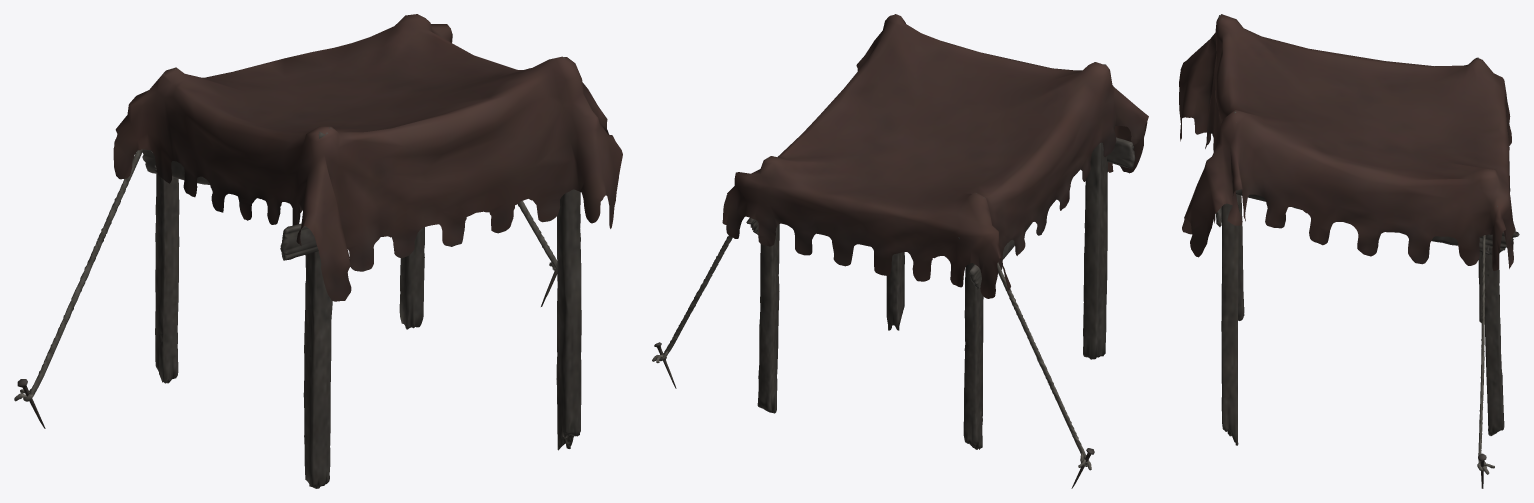
Rendered from CTent_01.fbx.
3 views of the same model, side by side, from view 1: azimuth 30°, elevation 25°; view 2: azimuth 150°, elevation 25°; view 3: azimuth 270°, elevation 25° (orthographic). The views are drawn at different scales.
Parts seen in each view (by area): view 1: CTent_01, CFrame_01; view 2: CTent_01, CFrame_01; view 3: CTent_01, CFrame_01.
Part boxes in pixels (left/top/right/bottom): CTent_01: left=113, top=14, right=622, bottom=301; CFrame_01: left=14, top=57, right=581, bottom=488; CTent_01: left=722, top=14, right=1148, bottom=298; CFrame_01: left=652, top=14, right=1135, bottom=488; CTent_01: left=1179, top=14, right=1515, bottom=270; CFrame_01: left=1216, top=14, right=1519, bottom=488.
Size of what is drawn, in the model's own units: 712 by 490 by 457.
